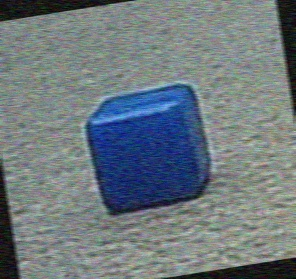blue_cube: (73, 84, 229, 217)
